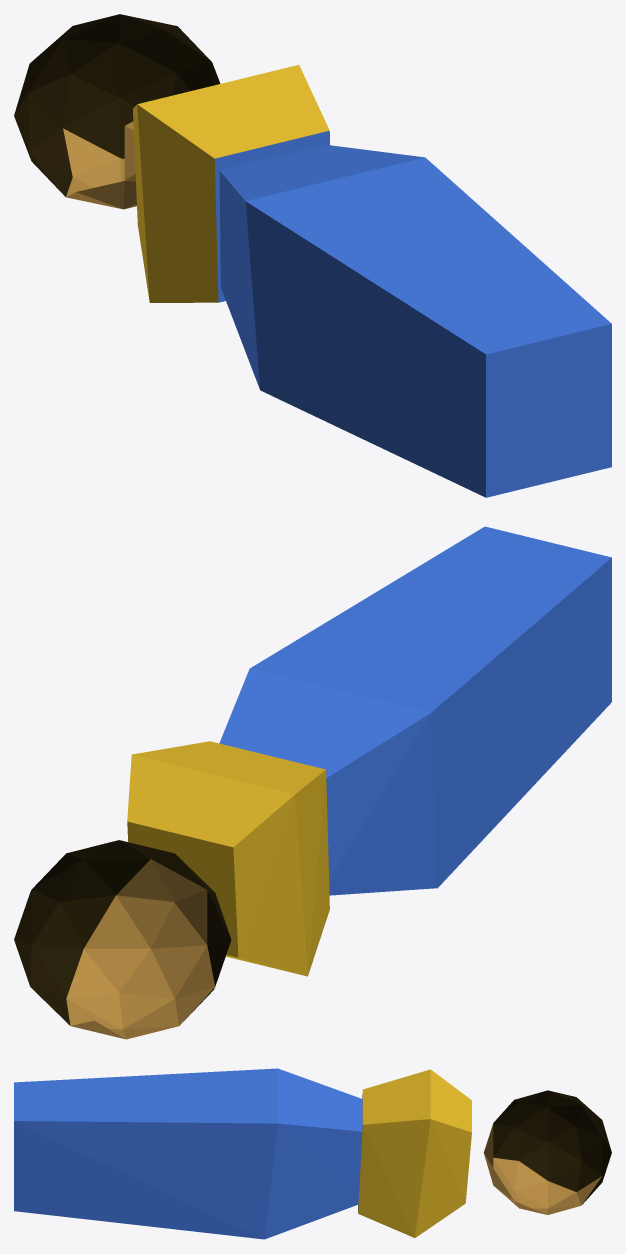
File: WomanYellowModel.dae
3 views of the same model, one above another, from view 1: azimuth 30°, elevation 25°; view 2: azimuth 150°, elevation 25°; view 3: azimuth 270°, elevation 25° (orthographic). The views are drawn at different scales.
Visible parts, largest first — view 1: Cube.011; view 2: Cube.011; view 3: Cube.011.
Boxes of the visible parts, x1=… form: Cube.011: x1=14, y1=14, x2=611, y2=497; Cube.011: x1=14, y1=526, x2=611, y2=1039; Cube.011: x1=14, y1=1068, x2=611, y2=1239.
Size of the model in its own units: 0.3364 by 1.51 by 0.3316.
